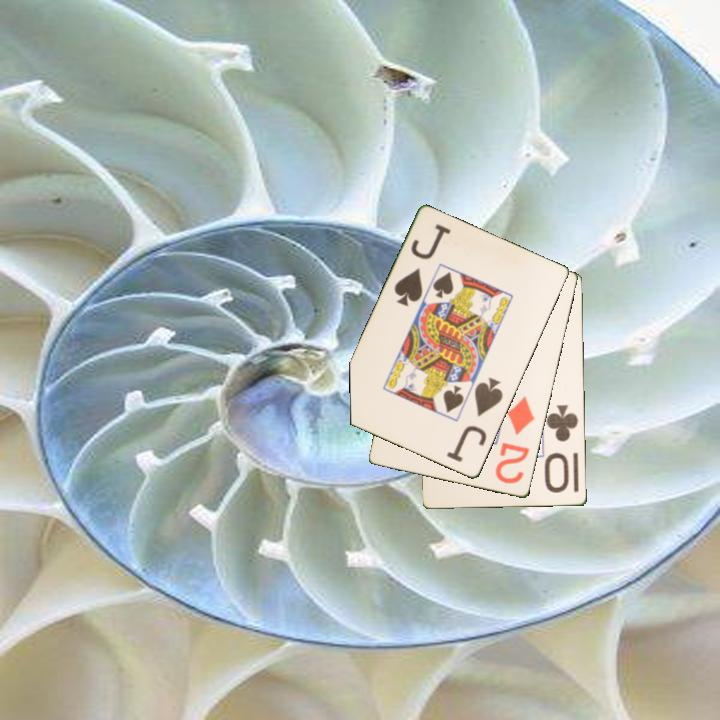10c: (543, 402, 581, 496)
2d: (492, 393, 538, 487)
Js: (390, 220, 454, 310), (443, 374, 506, 465)
